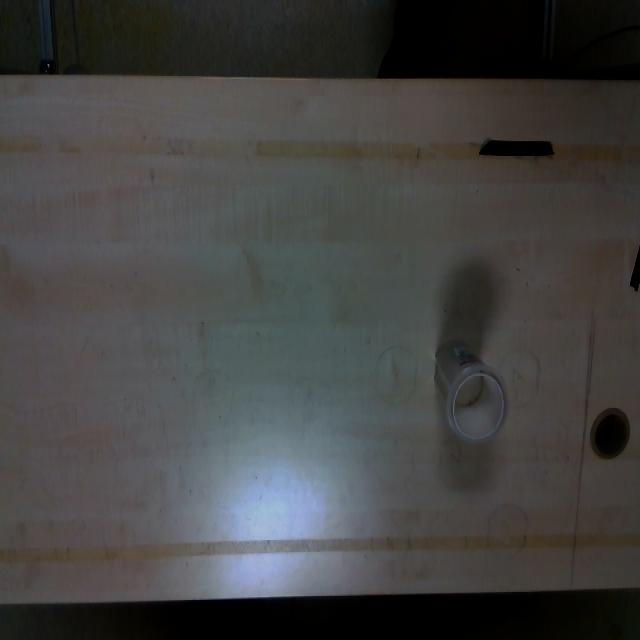cups: (434, 338, 510, 447)
